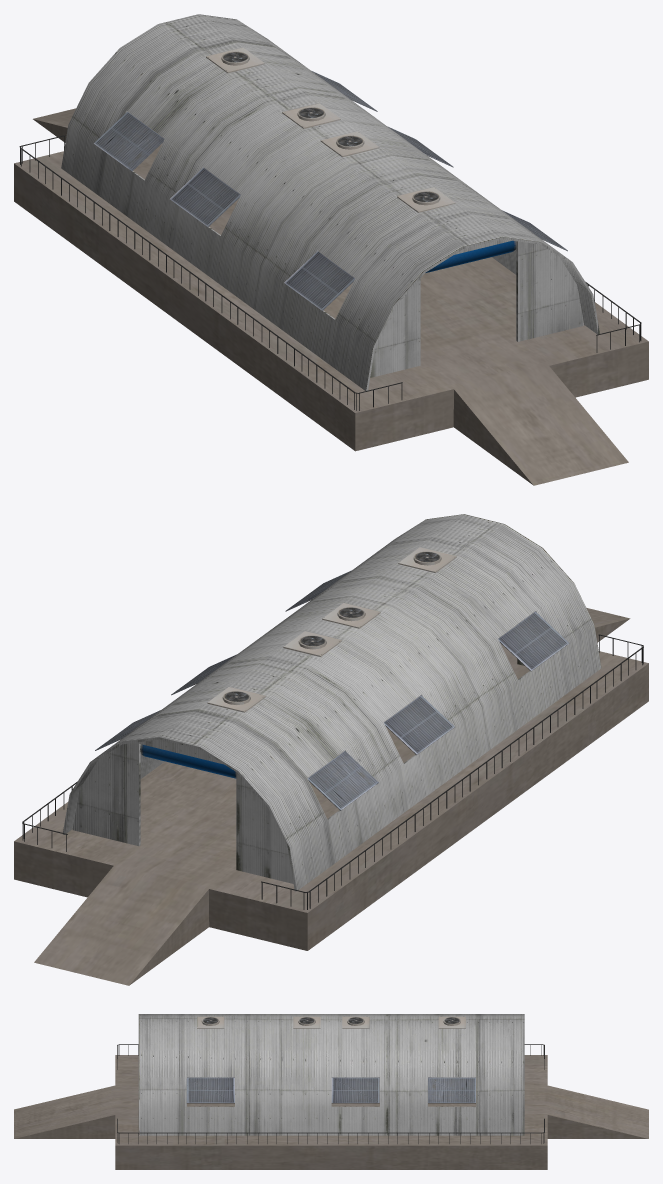
Rendered from hanger 01.obj.
3 views of the same model, one above another, from view 1: azimuth 30°, elevation 25°; view 2: azimuth 150°, elevation 25°; view 3: azimuth 270°, elevation 25° (orthographic). The views are drawn at different scales.
Visible parts, largest first — view 1: mesh01; view 2: mesh01; view 3: mesh01.
Part boxes in pixels (x1,y1,x2,y2): mesh01: (14, 14, 648, 485); mesh01: (14, 514, 648, 985); mesh01: (14, 1014, 648, 1169).
Size of the model in its own units: 16.67 by 8.88 by 49.3.
Materials: 1 (1 with a texture image).
